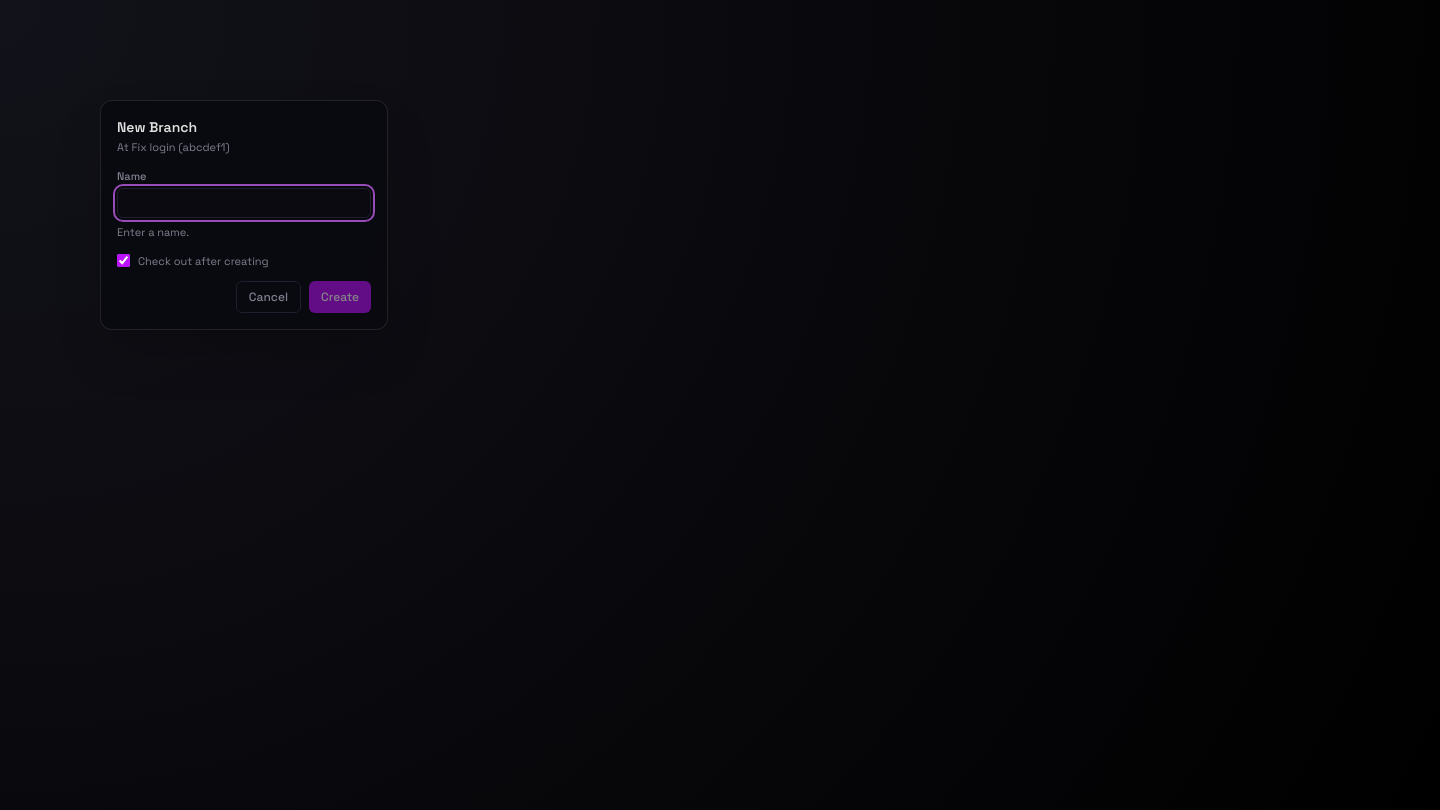
it: NamePopover › keeps Create off, with the reason, until the name is usable
Expected: the button "Create" is disabled, [309,281,371,313]
Type "my branch" into the field labelled "Name" at (244, 203), box [117,188,371,218]
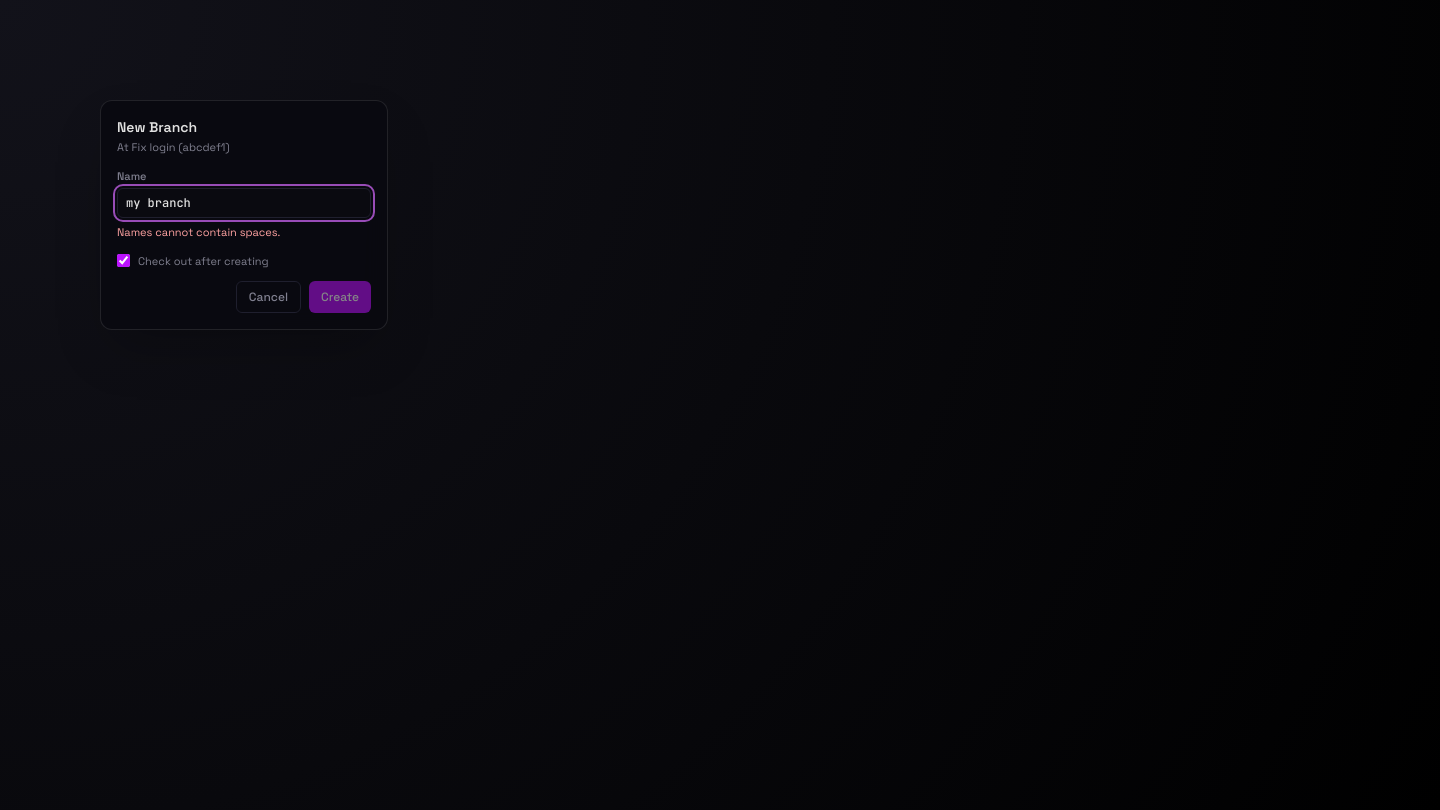
Expected: the button "Create" is disabled, [309,281,371,313]
Now the message reads "Names cannot contain spaces.", box [117,225,280,239]
